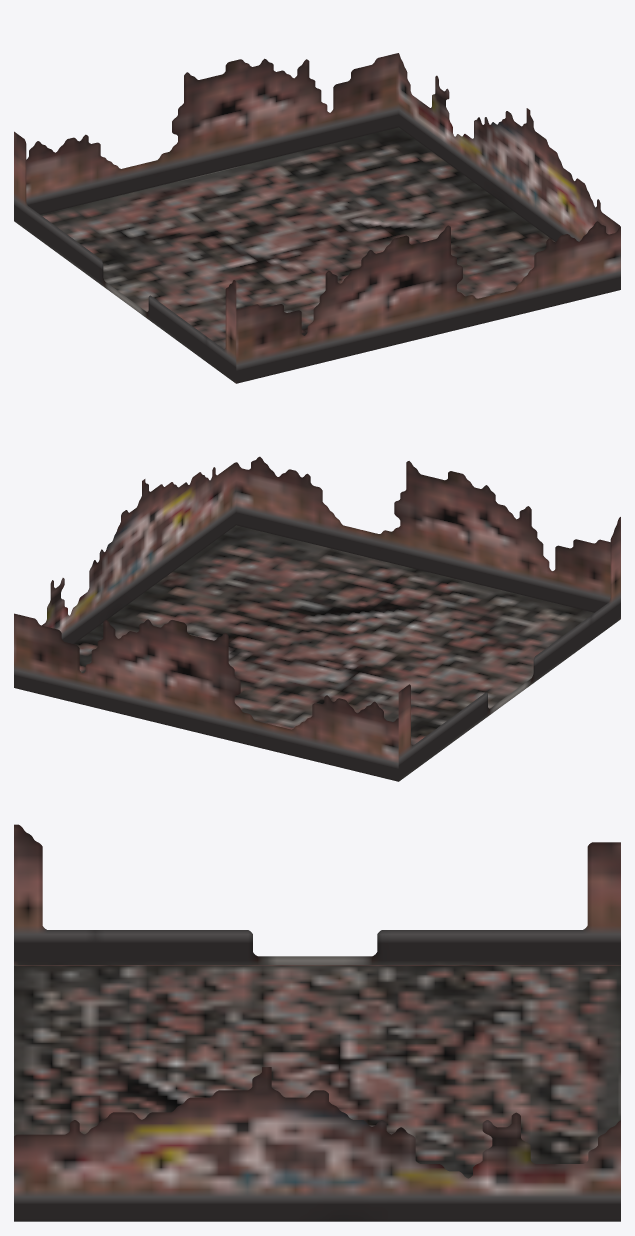
Rendered from city2storyc_dam.glb.
3 renders of one model, top to bottom at view 1: azimuth 30°, elevation 25°; view 2: azimuth 150°, elevation 25°; view 3: azimuth 270°, elevation 25°, orthographic. The views are drawn at different scales.
Visible parts, largest first — view 1: City2StoryA; view 2: City2StoryA; view 3: City2StoryA.
Part boxes in pixels (bbox=[...]): City2StoryA: bbox=[14, 53, 620, 383]; City2StoryA: bbox=[14, 456, 620, 781]; City2StoryA: bbox=[14, 824, 620, 1221].
Bounding box in the file's own units: 17.76 × 4.99 × 17.76.
1 material, 1 textured.
